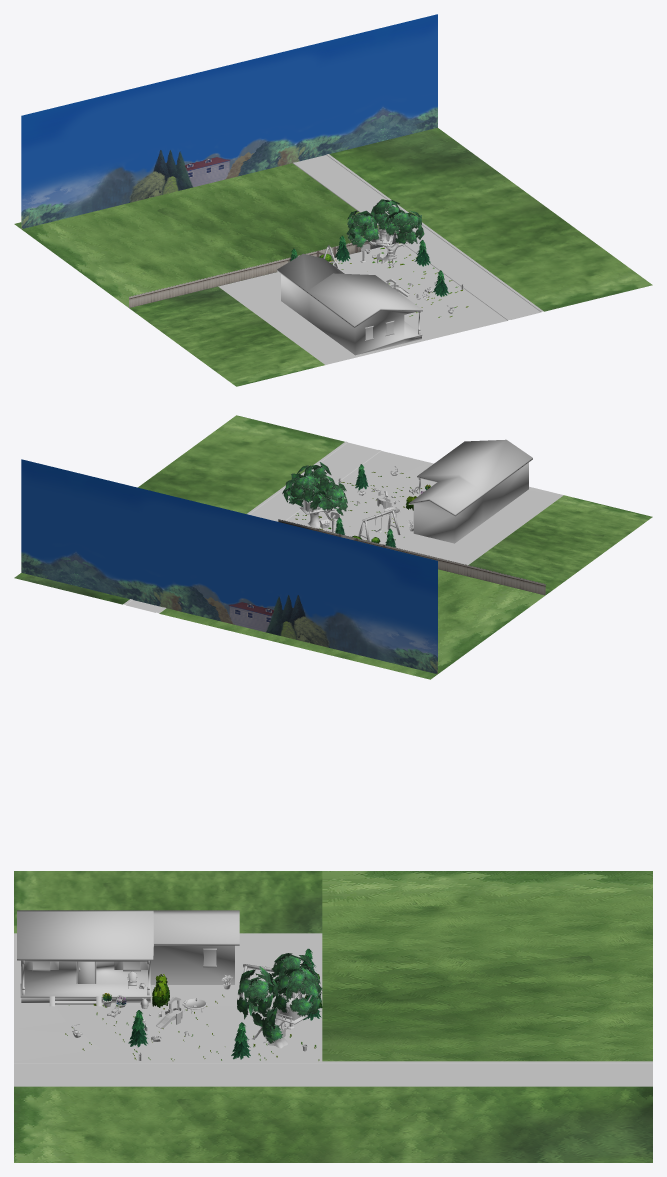
The model's file is NaErSenErZiFangJian_01.FBX.
The picture shows the model from 3 angles, top to bottom: view 1: azimuth 30°, elevation 25°; view 2: azimuth 150°, elevation 25°; view 3: azimuth 270°, elevation 25°; orthographic projection. The views are drawn at different scales.
Visible parts, largest first — view 1: NaErSenErZiDeFangJian_beijing_01, NaErSenErZiDeFangJian_dimian_01, NaErSenErZiDeFangJian_fangzi_01, NaErSenErZiDeFangJian_toumingzhiwu_01, NaErSenErZiDeFangJian_changjing_01; view 2: NaErSenErZiDeFangJian_beijing_01, NaErSenErZiDeFangJian_dimian_01, NaErSenErZiDeFangJian_fangzi_01, NaErSenErZiDeFangJian_toumingzhiwu_01, NaErSenErZiDeFangJian_changjing_01, NaErSenErZiDeFangJian_shuwu_01, Object008; view 3: NaErSenErZiDeFangJian_beijing_01, NaErSenErZiDeFangJian_dimian_01, NaErSenErZiDeFangJian_fangzi_01, NaErSenErZiDeFangJian_toumingzhiwu_01, NaErSenErZiDeFangJian_changjing_01, NaErSenErZiDeFangJian_shuwu_01, NaErSenErZiDeFangJian_toumingzhiwu_02.
Part boxes in pixels (box(x1,y1,x2,y2)): NaErSenErZiDeFangJian_beijing_01: box(14, 14, 652, 386); NaErSenErZiDeFangJian_dimian_01: box(218, 154, 543, 364); NaErSenErZiDeFangJian_fangzi_01: box(277, 253, 422, 355); NaErSenErZiDeFangJian_toumingzhiwu_01: box(338, 199, 468, 317); NaErSenErZiDeFangJian_changjing_01: box(404, 290, 476, 328); NaErSenErZiDeFangJian_beijing_01: box(14, 415, 652, 679); NaErSenErZiDeFangJian_dimian_01: box(123, 441, 563, 613); NaErSenErZiDeFangJian_fangzi_01: box(408, 439, 532, 543); NaErSenErZiDeFangJian_toumingzhiwu_01: box(282, 462, 430, 540); NaErSenErZiDeFangJian_changjing_01: box(341, 473, 434, 494); NaErSenErZiDeFangJian_shuwu_01: box(300, 489, 425, 527); Object008: box(358, 509, 400, 541); NaErSenErZiDeFangJian_beijing_01: box(14, 871, 652, 1162); NaErSenErZiDeFangJian_dimian_01: box(14, 933, 652, 1086); NaErSenErZiDeFangJian_fangzi_01: box(17, 910, 239, 1006); NaErSenErZiDeFangJian_toumingzhiwu_01: box(65, 953, 322, 1060); NaErSenErZiDeFangJian_changjing_01: box(56, 971, 137, 1061); NaErSenErZiDeFangJian_shuwu_01: box(102, 968, 311, 1048); NaErSenErZiDeFangJian_toumingzhiwu_02: box(152, 974, 322, 1020).
Size of the model in its own units: 8908 by 2382 by 8240.
